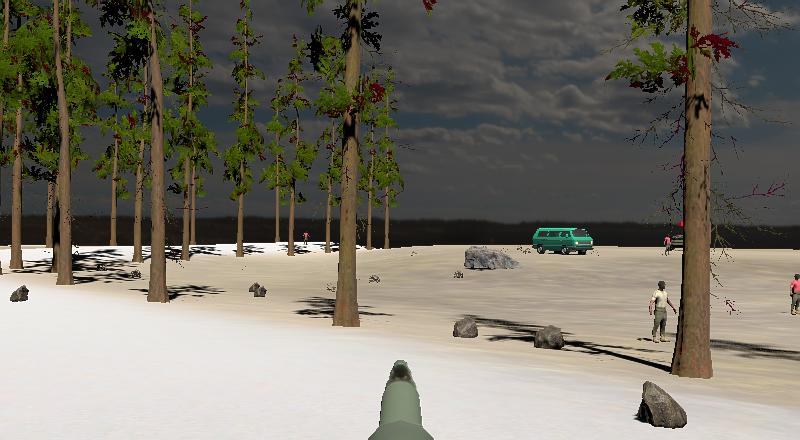Human: (647, 278, 678, 344), (787, 271, 800, 317)
car: (530, 224, 595, 257)
